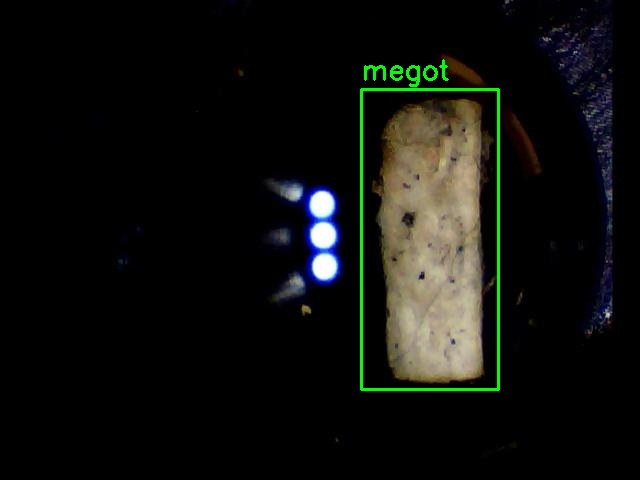megot: (361, 89, 498, 389)
